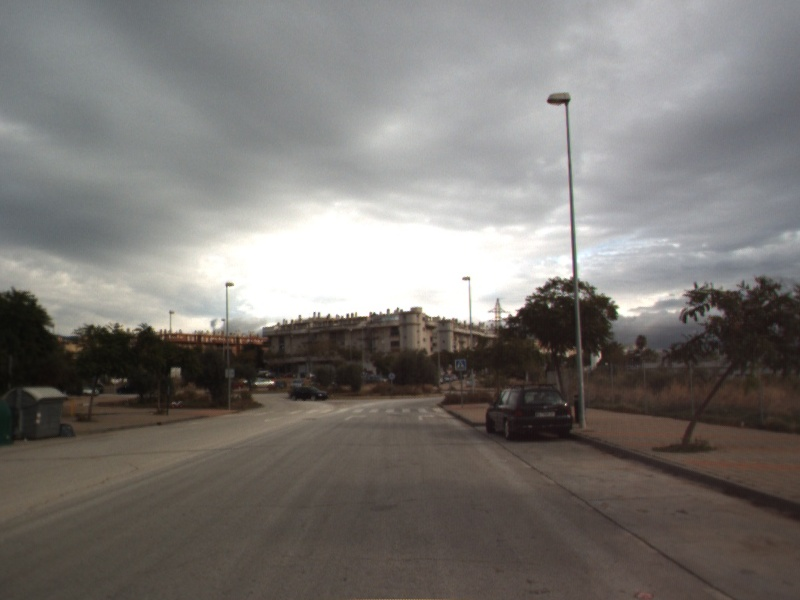RIGHT: (342, 412, 369, 422), (416, 412, 437, 422)
